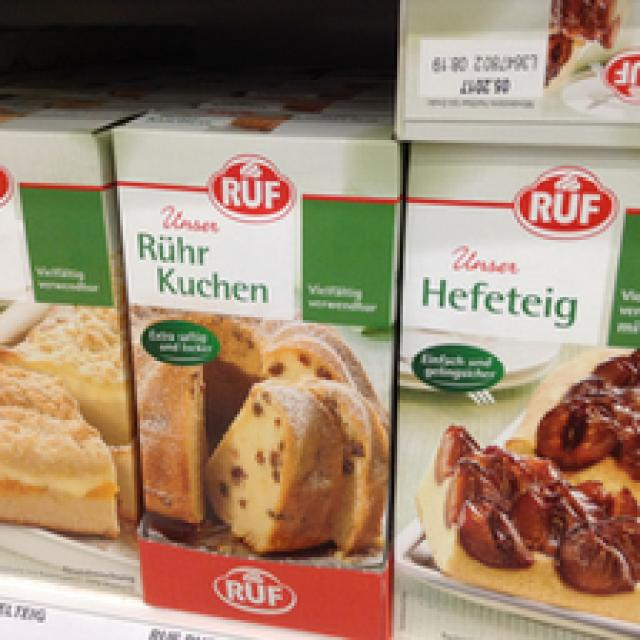groceries: (106, 103, 397, 620), (403, 117, 637, 620)
